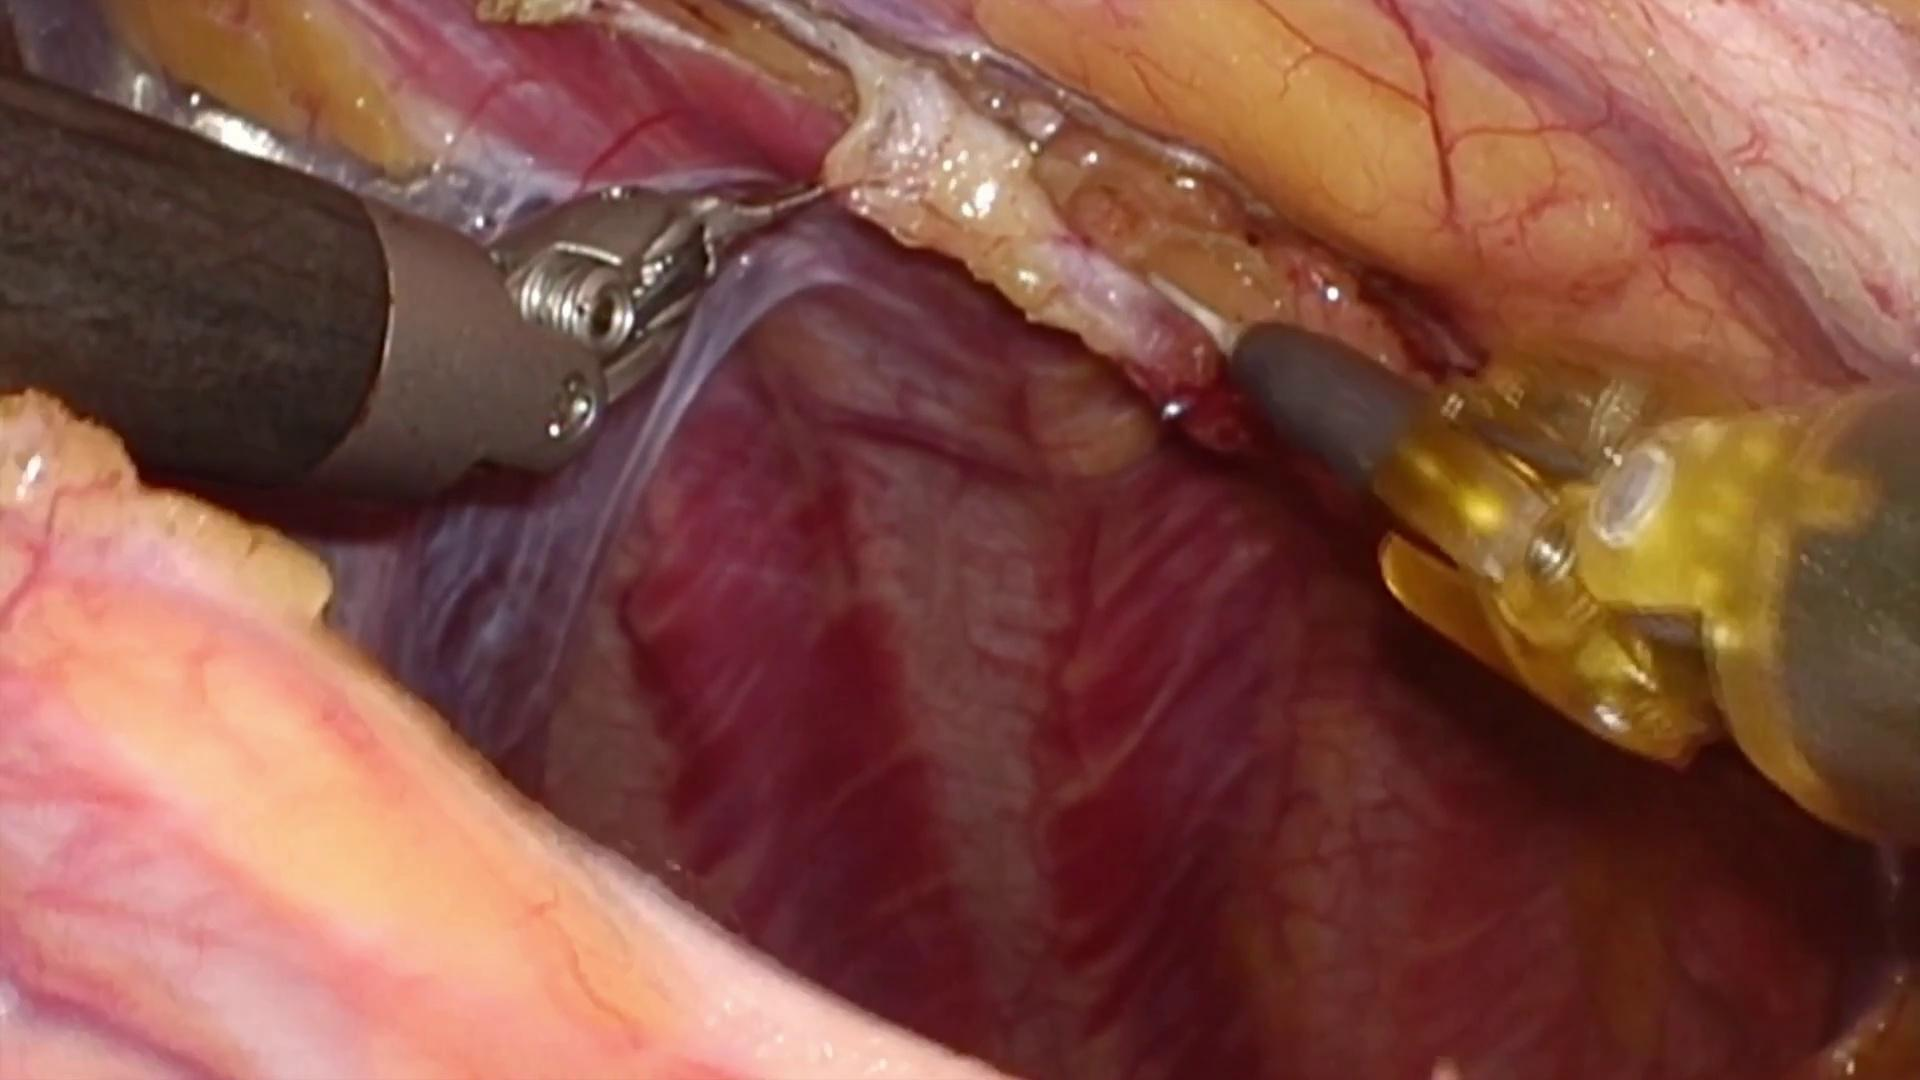Cautery_Spatula: (1149, 262, 1447, 513)
Debakey: (682, 157, 831, 261)
